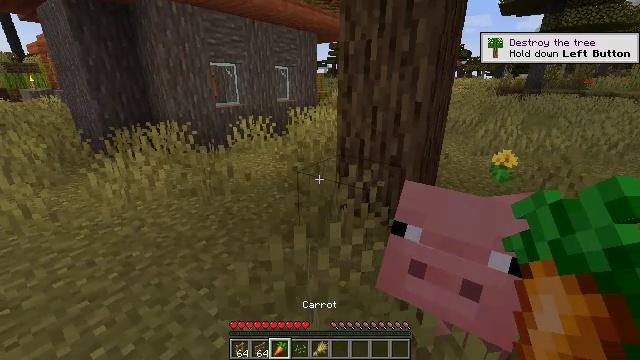pig: (380, 180, 552, 352)
